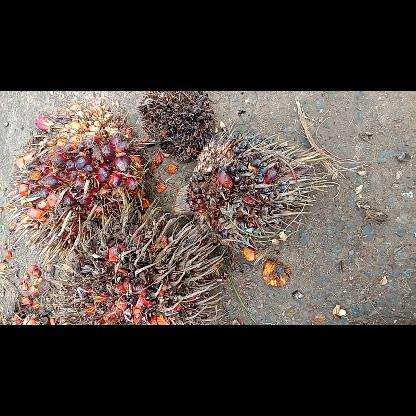TBS abnormal: (171, 126, 338, 264), (136, 91, 218, 163)
TBS masak: (9, 102, 155, 260)
Terlalu masak: (42, 206, 230, 324)
